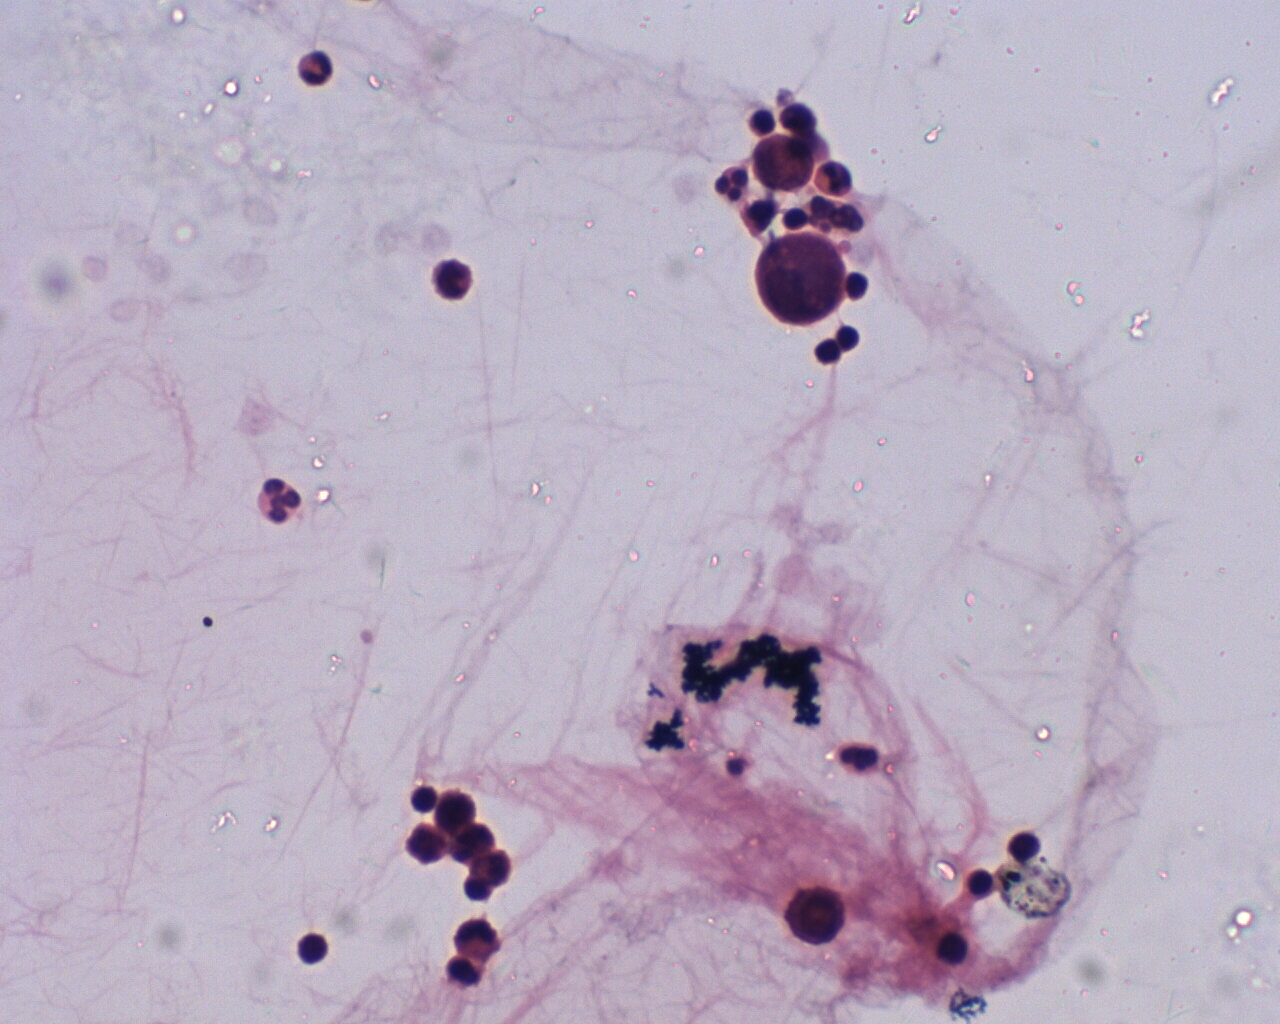ab: (753, 234, 850, 327), (748, 136, 817, 194), (784, 885, 850, 945)
lymph: (290, 927, 329, 965), (959, 863, 997, 899), (843, 269, 869, 308)
neutro: (251, 476, 306, 525), (711, 163, 751, 207), (295, 47, 336, 88)
